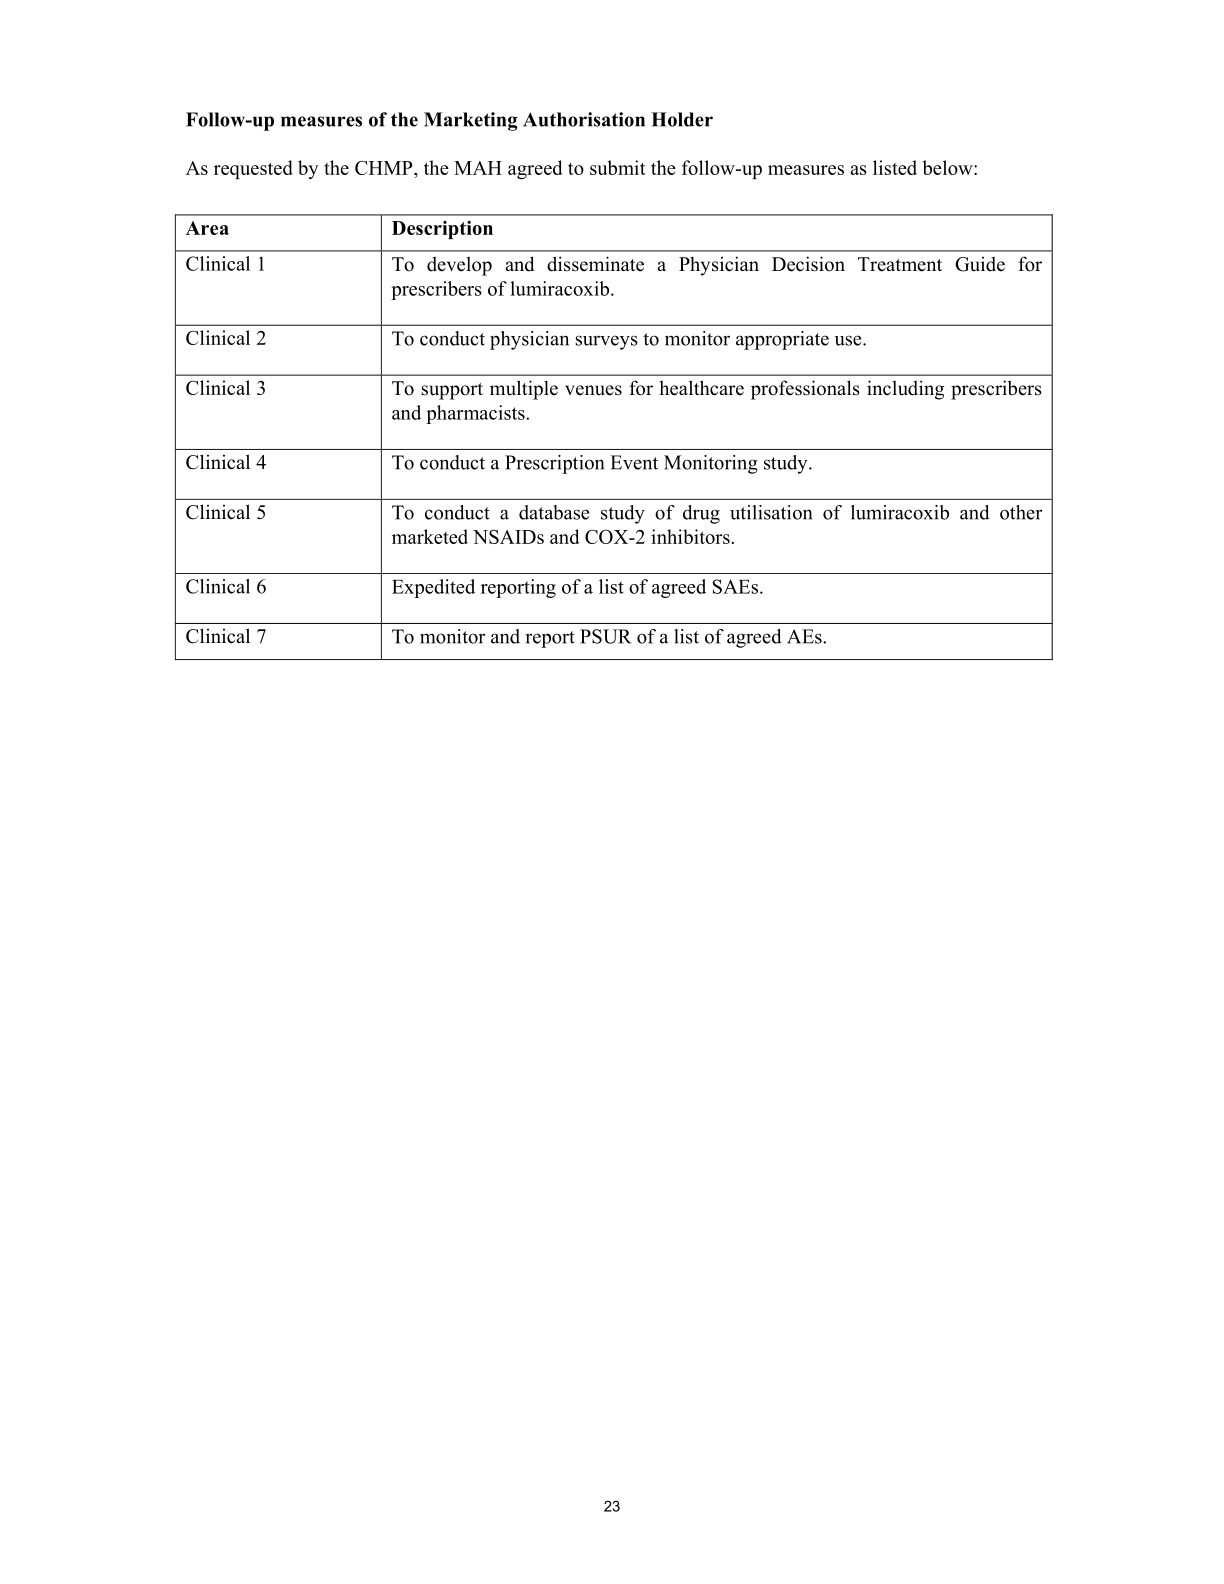full_lined: (174, 212, 1054, 661)
